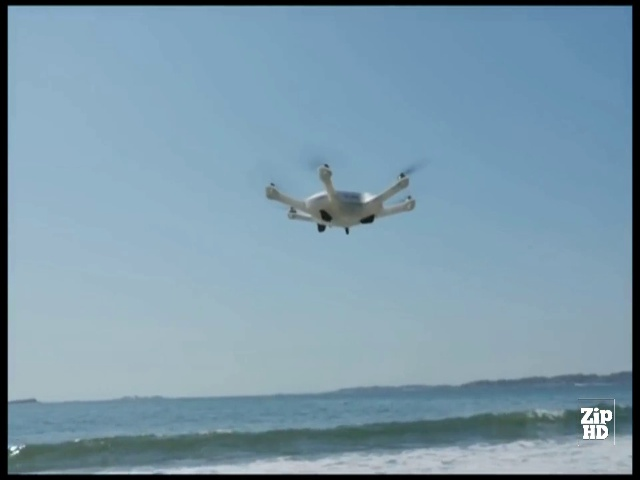drone: (247, 142, 441, 241)
